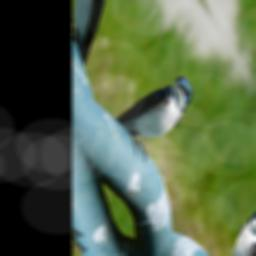Swallow: (113, 42, 198, 176)
